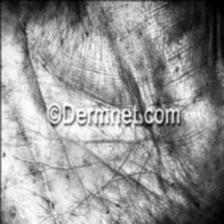Unclassified: (213, 205, 224, 223), (0, 70, 6, 86)
